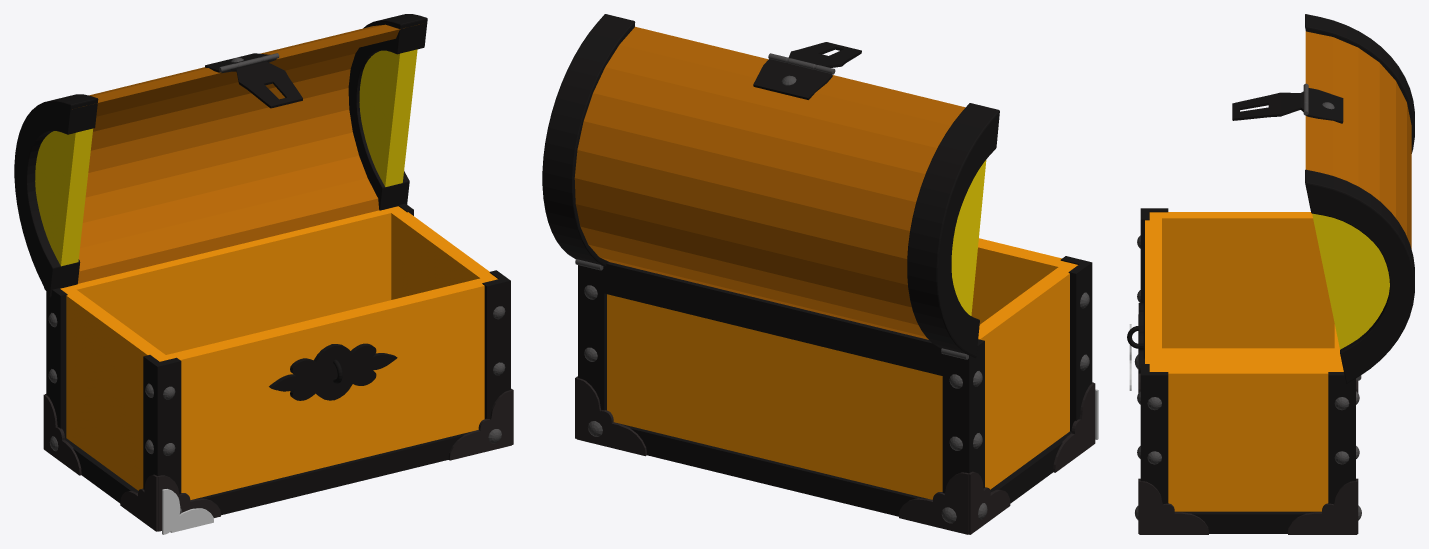
File: chest.obj
The picture shows the model from 3 angles, left to right: view 1: azimuth 30°, elevation 25°; view 2: azimuth 150°, elevation 25°; view 3: azimuth 270°, elevation 25°; orthographic projection. The views are drawn at different scales.
Visible parts, largest first — view 1: Torus, Plane, Cube.004_Cube.006, Cube.005_Cube.007; view 2: Plane, Torus; view 3: Torus, Plane.
Part boxes in pixels (x1=…): Torus: x1=43, y1=203, x2=513, y2=531; Plane: x1=14, y1=14, x2=427, y2=297; Cube.004_Cube.006: x1=162, y1=489, x2=180, y2=534; Cube.005_Cube.007: x1=170, y1=508, x2=213, y2=532; Plane: x1=542, y1=14, x2=999, y2=357; Torus: x1=575, y1=238, x2=1095, y2=534; Torus: x1=1127, y1=208, x2=1361, y2=534; Plane: x1=1232, y1=14, x2=1414, y2=383.
Bounding box in the file's own units: 4.32 × 4.16 × 3.07.
